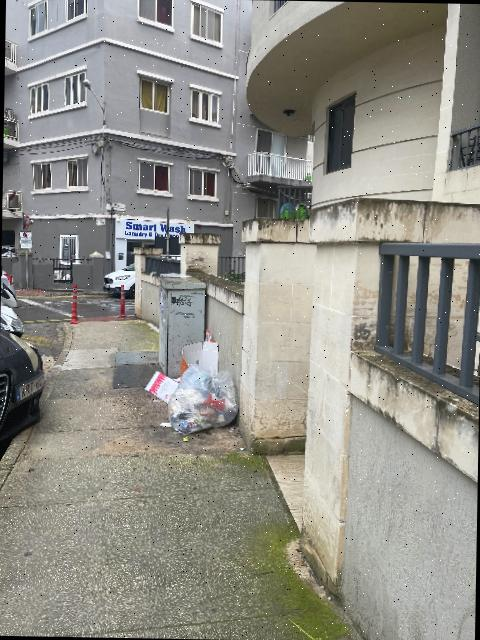Other: (180, 340, 218, 376), (144, 372, 178, 403)
Recyclable -Grey-: (168, 365, 237, 434)
